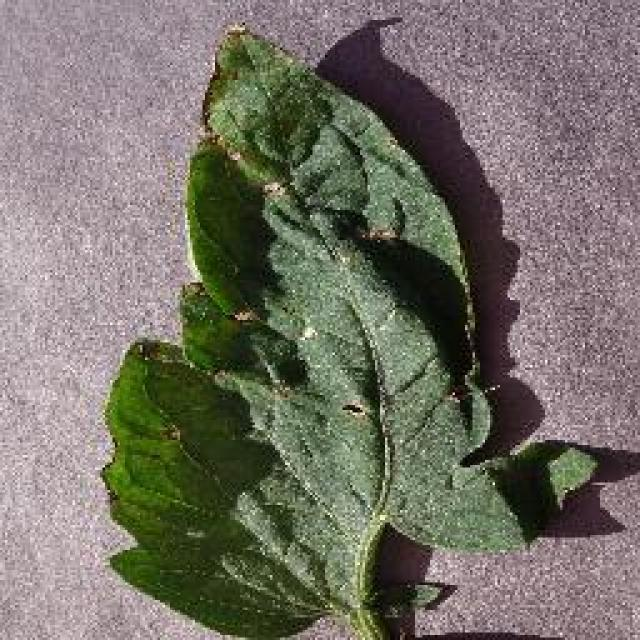Tomato Septoria spot leaf: (100, 15, 592, 640)
